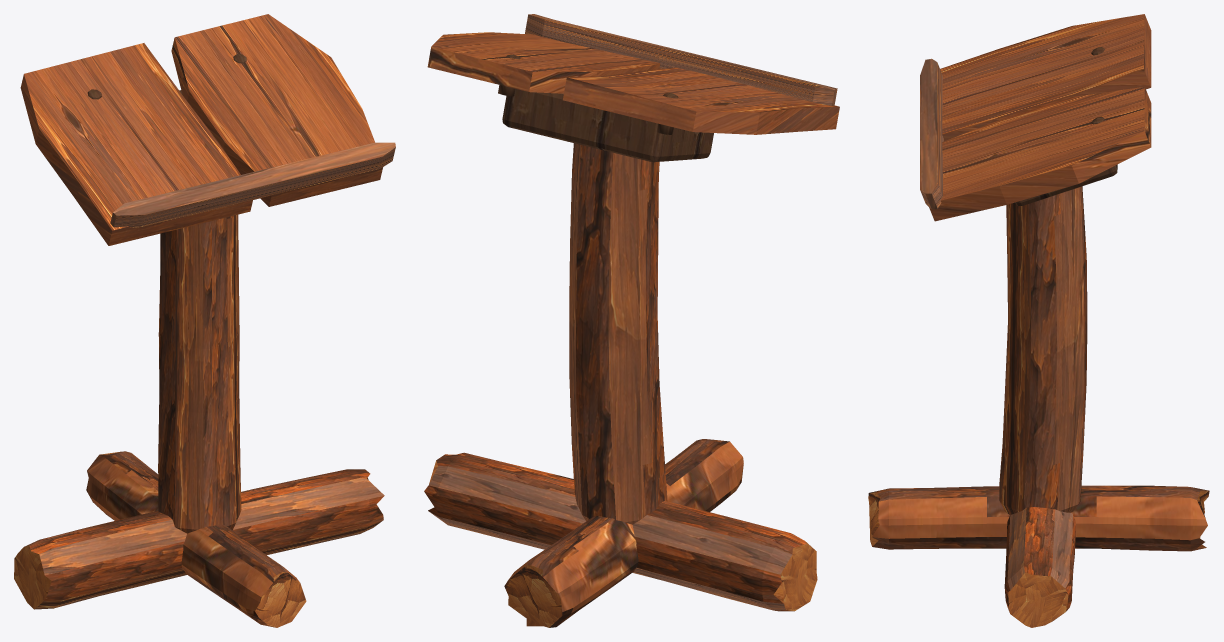
The model's file is recipe_stand.glb.
The picture shows the model from 3 angles, left to right: view 1: azimuth 30°, elevation 25°; view 2: azimuth 150°, elevation 25°; view 3: azimuth 270°, elevation 25°; orthographic projection. The views are drawn at different scales.
Visible parts, largest first — view 1: model; view 2: model; view 3: model.
Part boxes in pixels (box(x1,y1,x2,y2)): model: box(14, 14, 395, 627); model: box(424, 14, 839, 627); model: box(868, 14, 1209, 627).
Bounding box in the file's own units: 0.7045 × 0.9698 × 0.6223.
11 materials, 11 textured.
